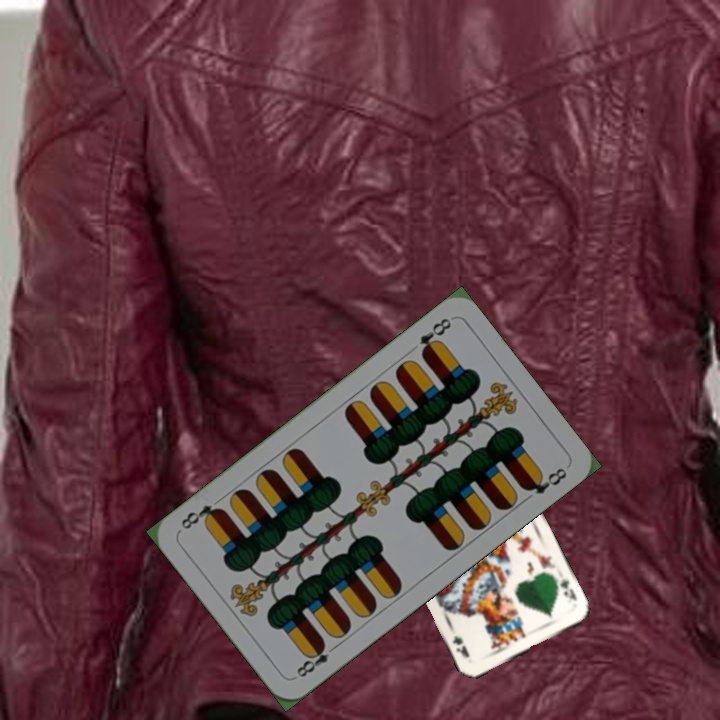E8: (292, 638, 341, 680), (416, 314, 454, 359)
GK: (556, 574, 579, 603)
